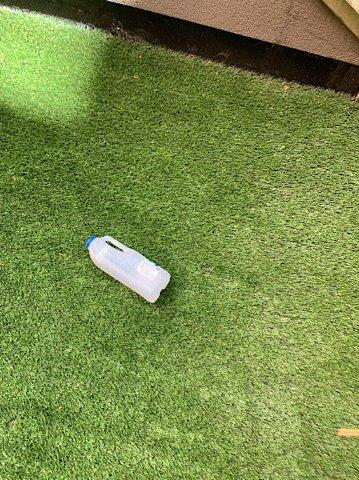botolplastik: (88, 237, 170, 301)
